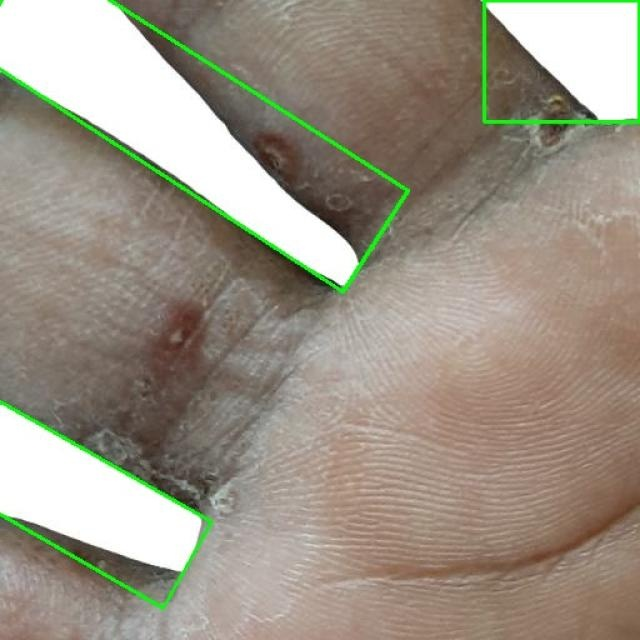Scabies: (0, 0, 408, 292), (0, 378, 222, 608), (484, 0, 639, 121)
